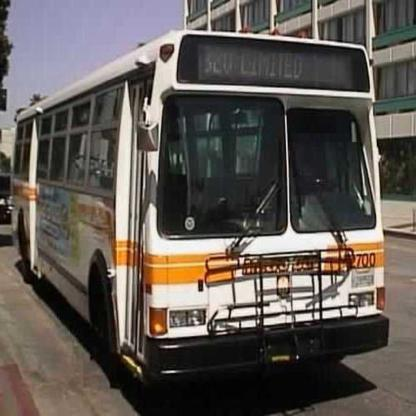Bus: (12, 29, 389, 385)
